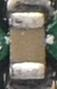Capacitor: (9, 12, 47, 81)
